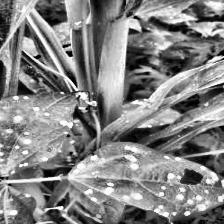Bean Rust: (74, 142, 224, 222), (0, 88, 75, 174)
